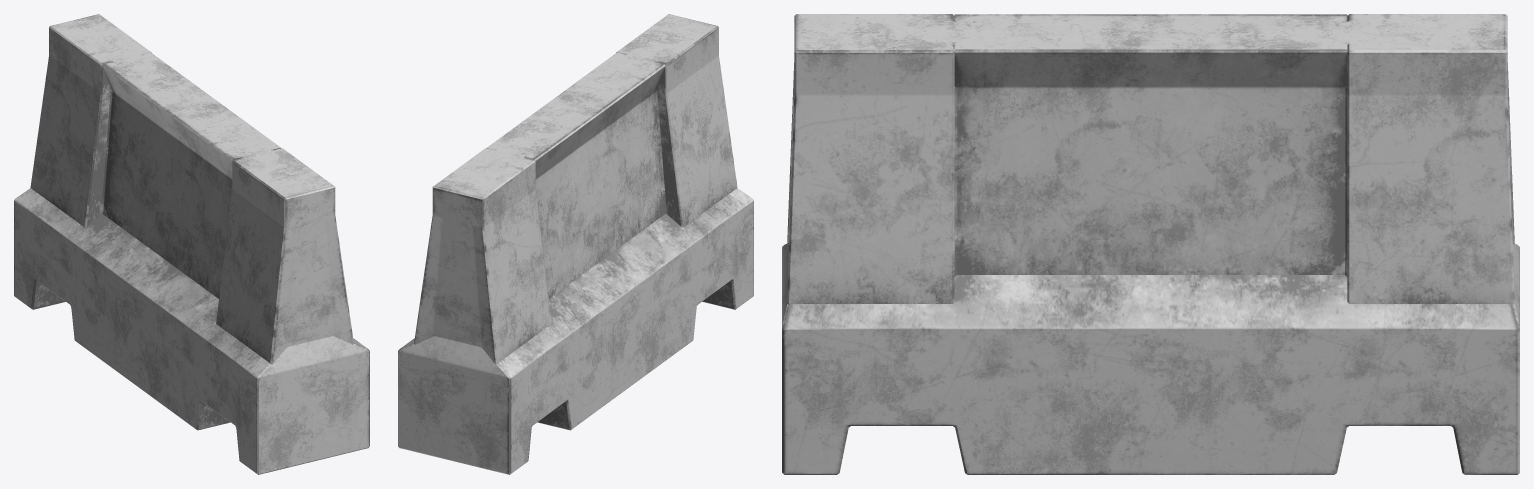
Rendered from W_lilwall.fbx.
3 views of the same model, side by side, from view 1: azimuth 30°, elevation 25°; view 2: azimuth 150°, elevation 25°; view 3: azimuth 270°, elevation 25° (orthographic). The views are drawn at different scales.
Parts seen in each view (by area): view 1: pCube4; view 2: pCube4; view 3: pCube4.
Boxes of the visible parts, x1,y1,x2,y2 form: pCube4: (14, 14, 369, 474); pCube4: (398, 14, 753, 474); pCube4: (782, 14, 1519, 474).
Size of the model in its own units: 0.4 by 0.9026 by 1.5.
